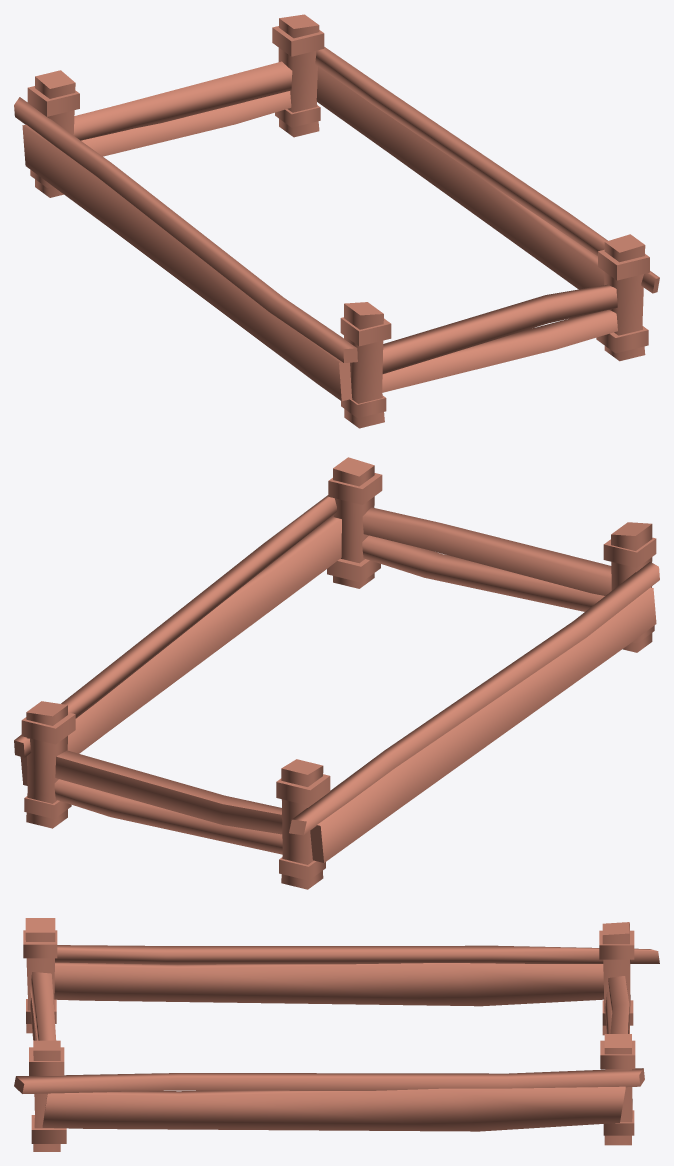
Rendered from bed.fbx.
The picture shows the model from 3 angles, top to bottom: view 1: azimuth 30°, elevation 25°; view 2: azimuth 150°, elevation 25°; view 3: azimuth 270°, elevation 25°; orthographic projection. The views are drawn at different scales.
Visible parts, largest first — view 1: Plane.046; view 2: Plane.046; view 3: Plane.046.
Boxes of the visible parts, x1=… form: Plane.046: x1=14, y1=14, x2=659, y2=428; Plane.046: x1=14, y1=457, x2=659, y2=889; Plane.046: x1=14, y1=918, x2=659, y2=1151.
Size of the model in its own units: 1.34 by 0.4634 by 2.61.
